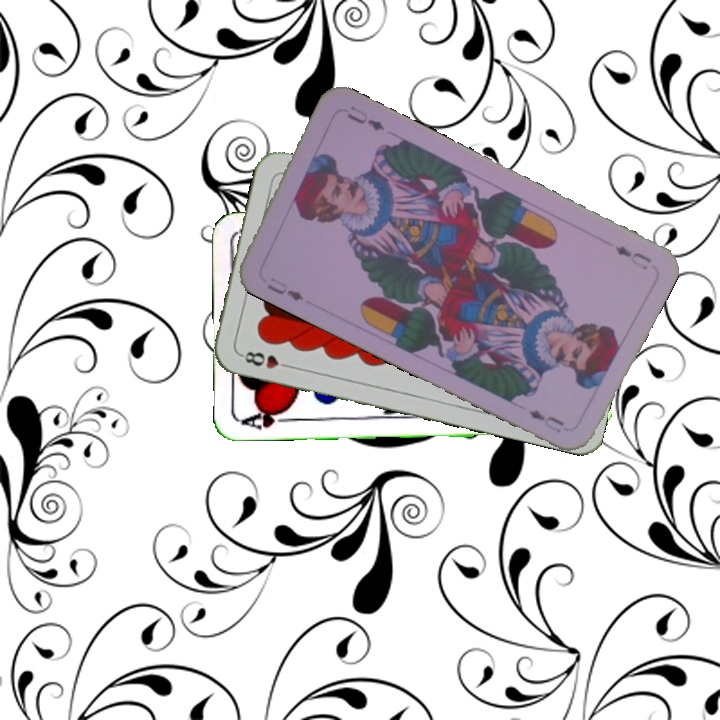EU: (610, 241, 654, 272), (263, 273, 306, 304)
H8: (236, 347, 295, 372)
HA: (238, 405, 297, 432)
